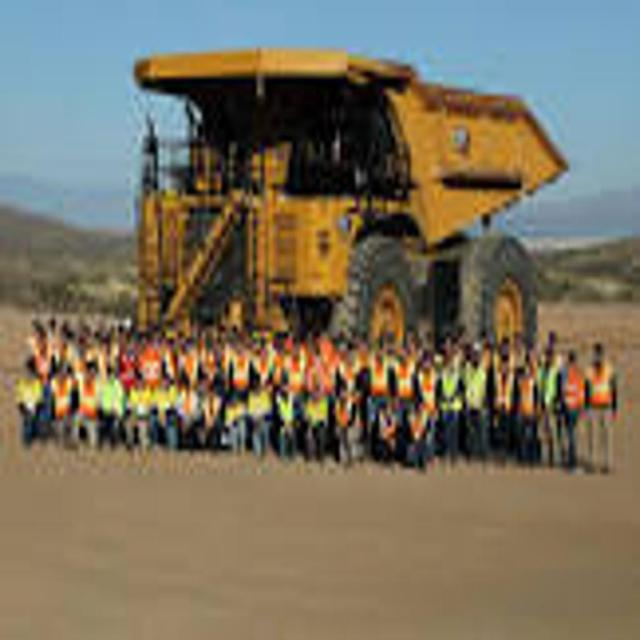dump_truck: (129, 15, 570, 342)
